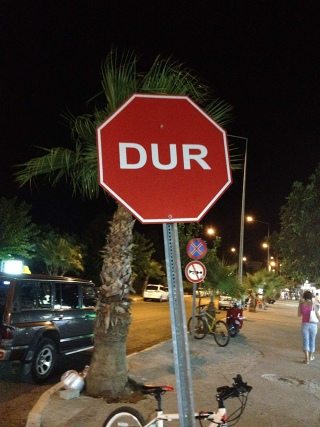bisiklet: (181, 290, 240, 359)
dur: (95, 92, 230, 222)
otomobil: (0, 245, 127, 410)
yaya: (281, 287, 319, 361)
